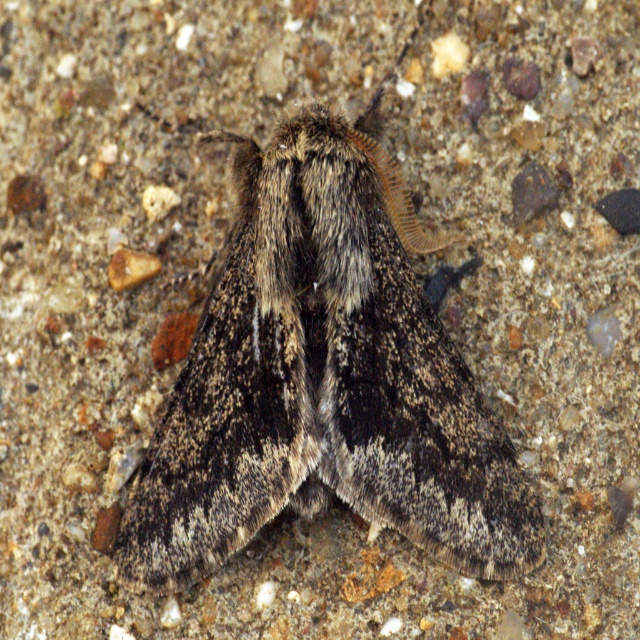Moths and butterflies: (105, 0, 551, 600)
